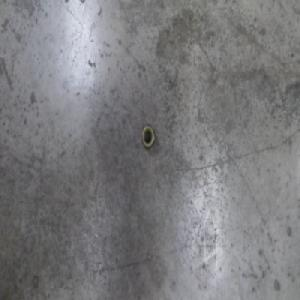Nut: (141, 122, 155, 151)
